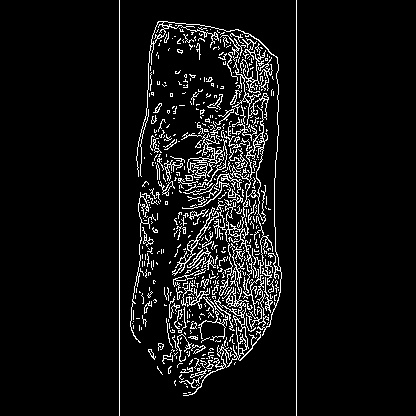buddha-standing: (150, 209, 206, 373)
